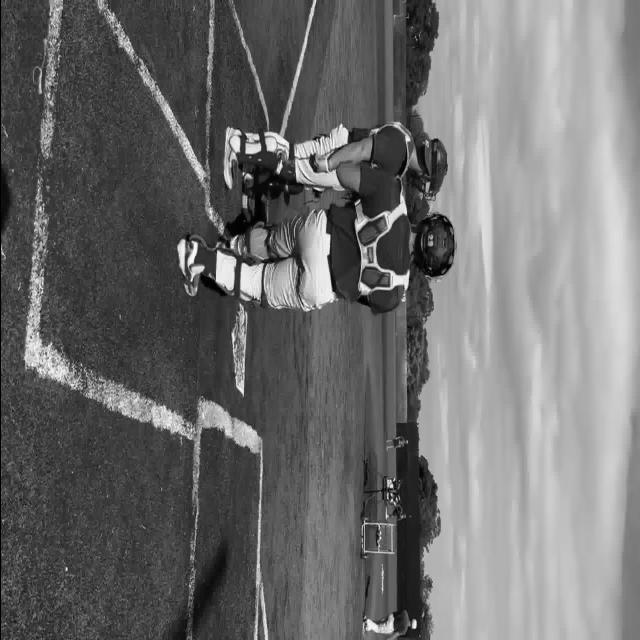base: (231, 310, 246, 400)
shoe: (176, 237, 204, 296), (222, 126, 242, 190)
